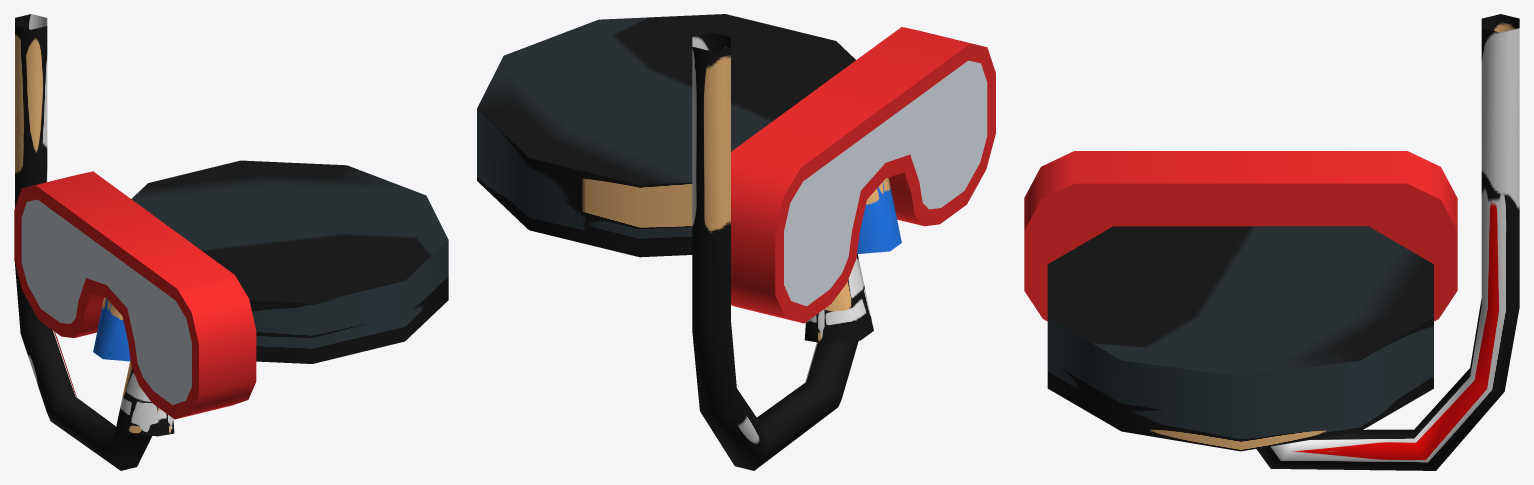
The model's file is kinh boi.FBX.
3 views of the same model, side by side, from view 1: azimuth 30°, elevation 25°; view 2: azimuth 150°, elevation 25°; view 3: azimuth 270°, elevation 25° (orthographic). The views are drawn at different scales.
Visible parts, largest first — view 1: Box1226; view 2: Box1226; view 3: Box1226.
Boxes of the visible parts, <box> form: Box1226: <box>14,14,448,470</box>; Box1226: <box>477,14,995,470</box>; Box1226: <box>1024,14,1519,470</box>.
Bounding box in the file's own units: 1.2 × 1.31 × 1.33.
